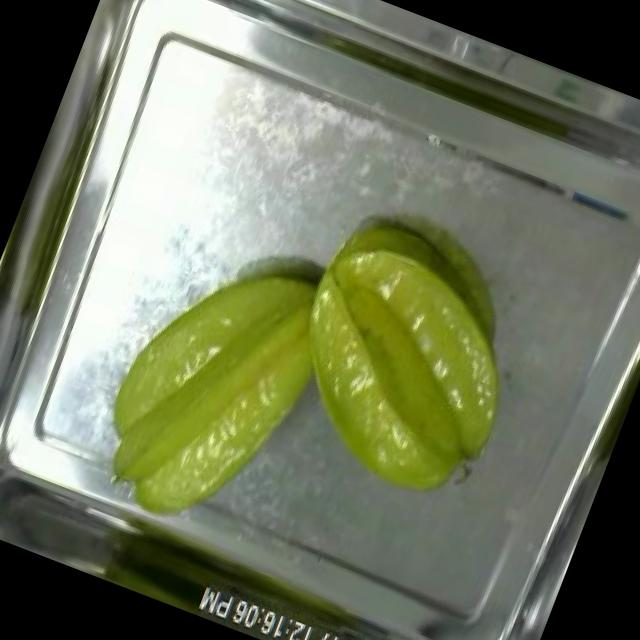fruit: (243, 212, 561, 530), (70, 219, 362, 562)
